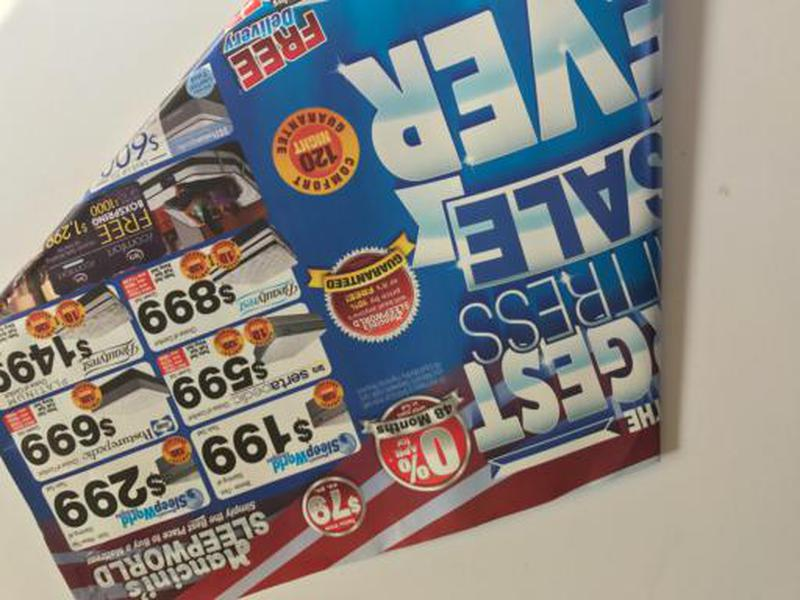paper: (1, 1, 669, 600)
